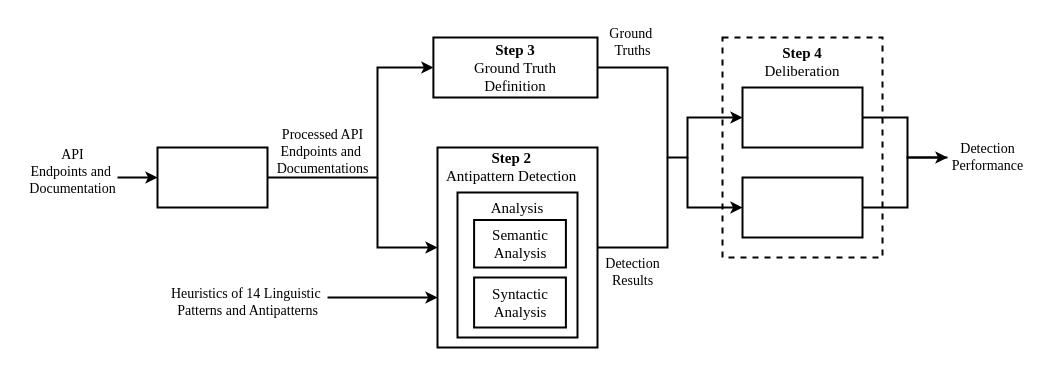
The diagram is 1054 pixels wide and 365 high, and some of its shapes have lost their labels. Here are the shapes that lost their labels. From the top down, the centre of each, then its label:
(x=802, y=117): Measure Performance
(x=212, y=177): Step 1 Pre-processing
(x=802, y=207): Synthesis of Findings
